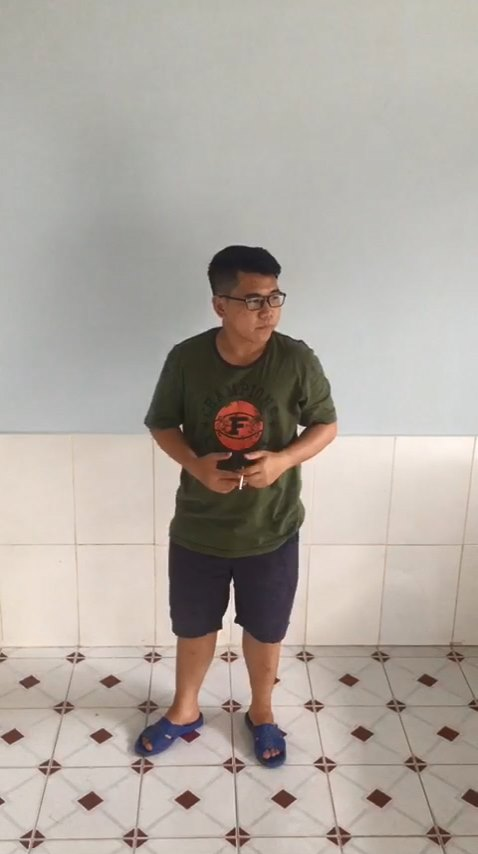cigarette: (233, 466, 254, 493)
person: (107, 220, 365, 793)
